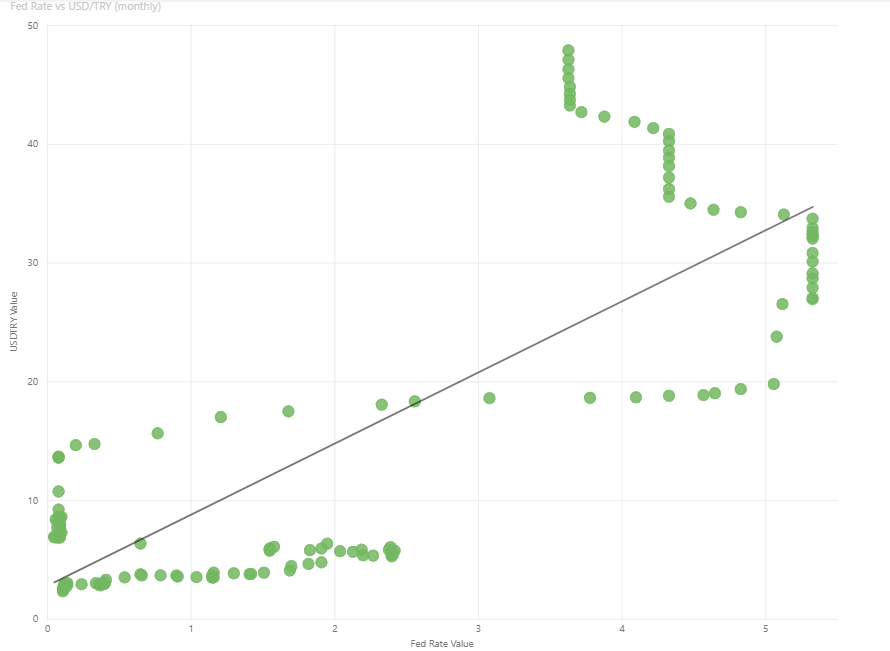

What the dashboard file says about the page in this screenshot:
{"tool":"powerbi","page":{"name":"correlation","canvas":[1280,720],"ordinal":1},"visuals":[{"type":"scatterChart","title":"Fed Rate vs USD/TRY (monthly)","fields":{"X":["market_data.Fed Rate Value"],"Y":["market_data.USDTRY Value"],"Category":["DimDate.YearMonth"]},"box":[9.6,0,920.8,720.4],"z":0}]}

Visuals, with their boxes on the page's 1280x720 design canvas (x1, y1, x2, y2). These are canvas units, not pixel positions in the 890x651 screenshot, which may show the page scaled, cropped or inside an application window:
"Fed Rate vs USD/TRY (monthly)" scatterChart: locate(10, 0, 930, 720)
